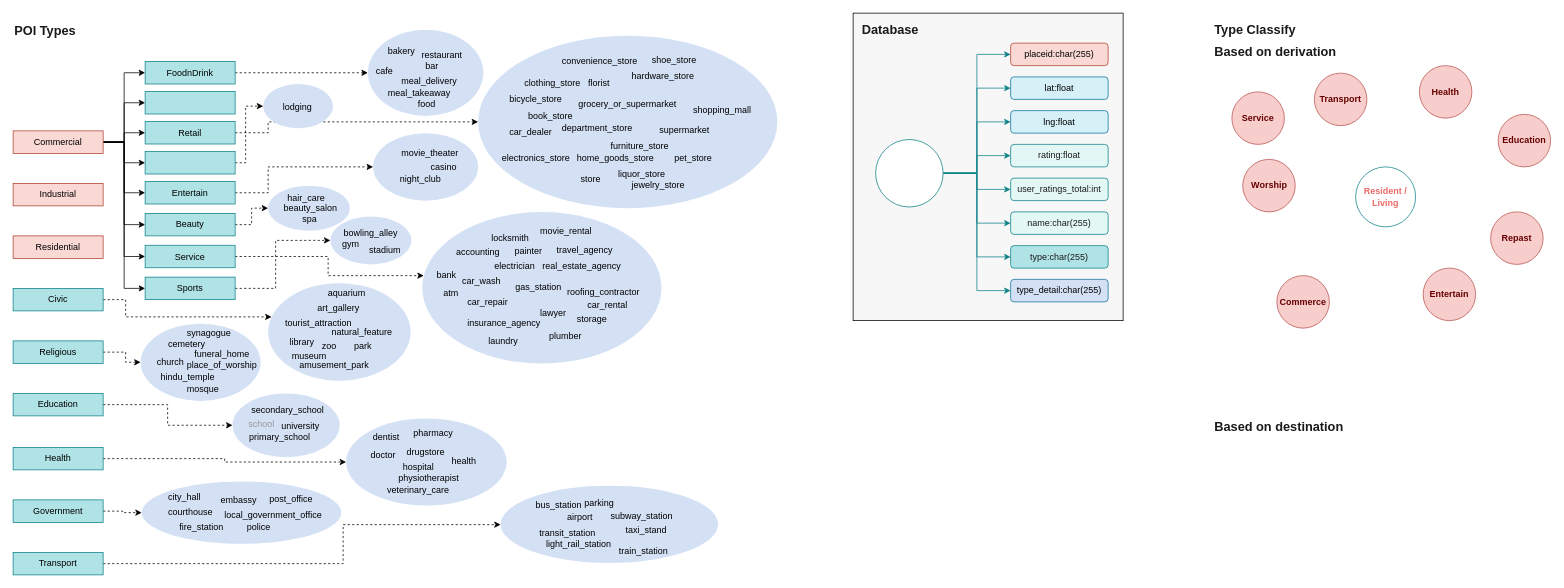
This 1564x588 diagram has some shape labels left out. Here are the shapes that lost their labels. From the top down, the box of each, then its label:
(144, 91, 235, 114): Office
(144, 151, 235, 174): Hotels
(875, 139, 943, 207): PratoSearch
